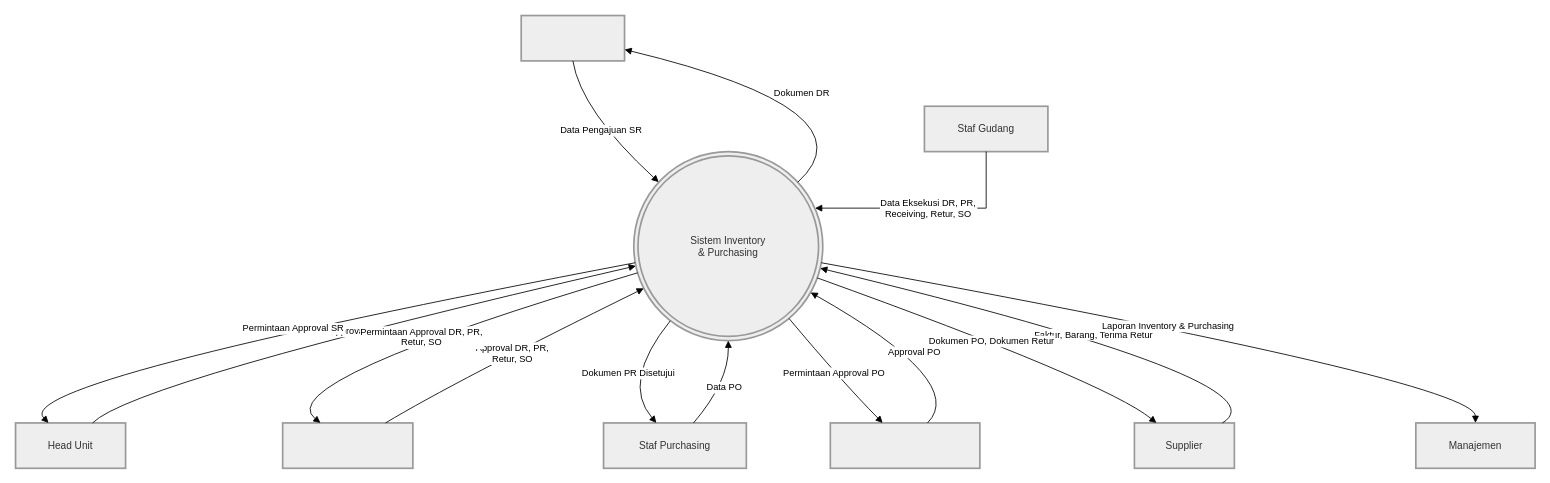
Some shapes in this 1550 by 483 pixel diagram are drawn without their labels. The centre of each missing label's shape, as x and y in pixels:
"Head Gudang" goes at [347,445].
"Head Purchasing" goes at [904,445].
"Staf Unit" goes at [572,37].
